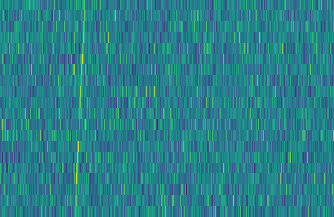signal: (68, 0, 87, 217)
